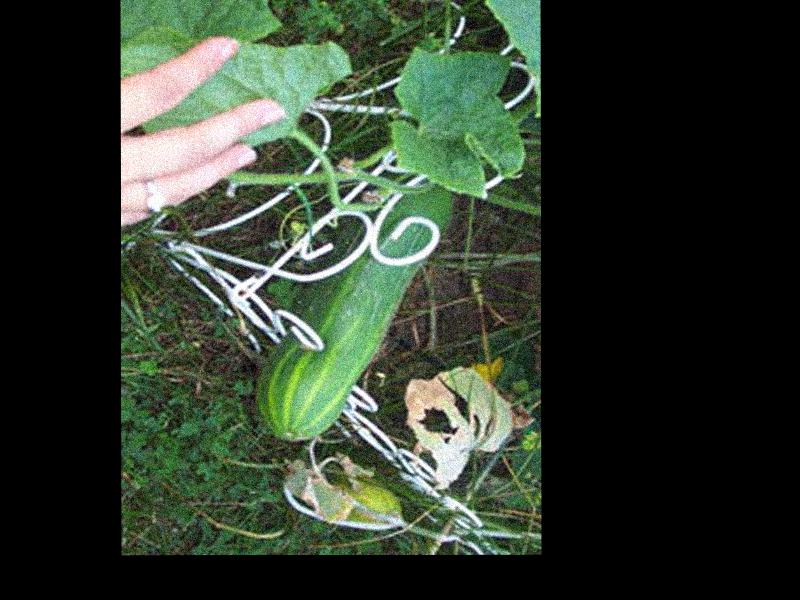Cucumber: (256, 181, 454, 440)
